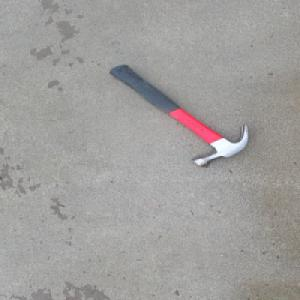Hammer: (107, 63, 250, 168)
